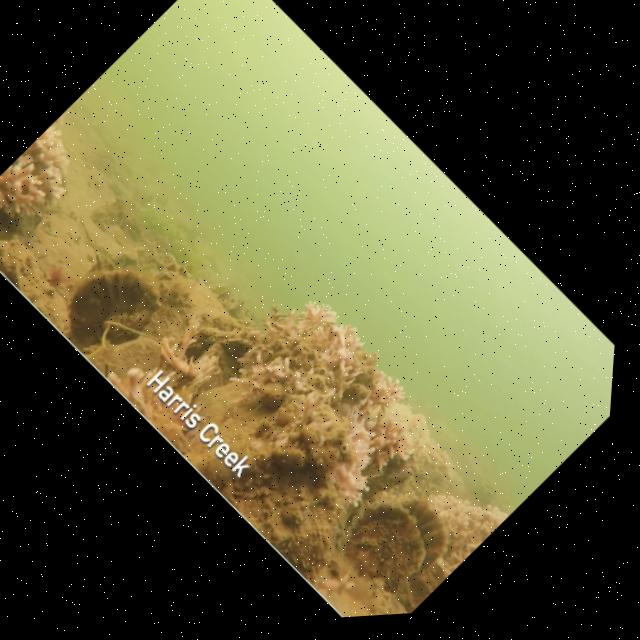Oyster-Closed: (179, 362, 209, 401), (258, 384, 284, 410), (206, 284, 228, 295)
Oyster-Indeterminate: (262, 489, 343, 582), (67, 269, 159, 348), (345, 505, 424, 593), (259, 317, 339, 402), (0, 244, 67, 332), (400, 499, 446, 559), (109, 337, 159, 378), (175, 315, 199, 359), (89, 199, 119, 231), (269, 447, 304, 473), (115, 210, 141, 240), (105, 325, 136, 344), (221, 340, 252, 359), (169, 241, 190, 265), (194, 269, 217, 288), (136, 243, 150, 259), (138, 193, 153, 206), (154, 194, 167, 208)
